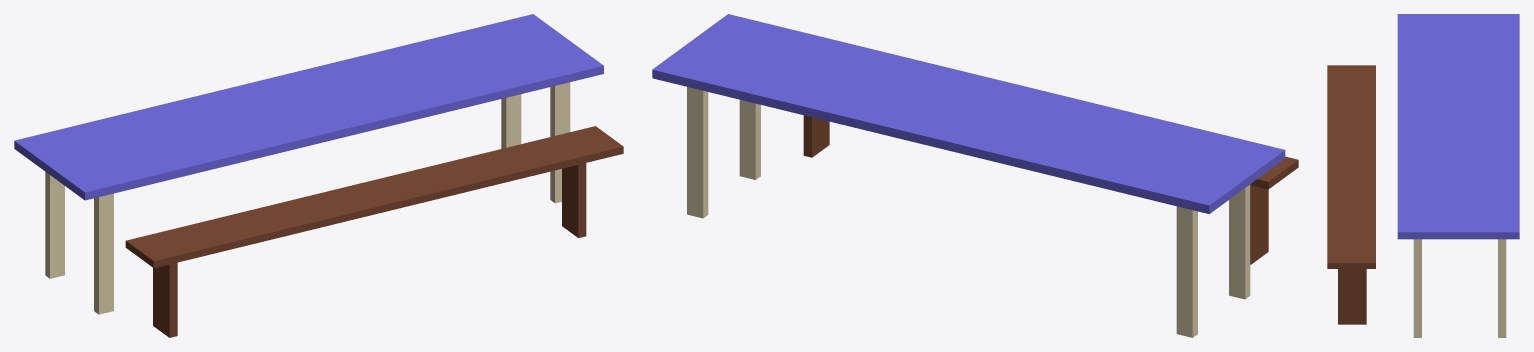
File: tablecaf.fbx
3 views of the same model, side by side, from view 1: azimuth 30°, elevation 25°; view 2: azimuth 150°, elevation 25°; view 3: azimuth 270°, elevation 25° (orthographic). The views are drawn at different scales.
Visible parts, largest first — view 1: Cube.003, Cube; view 2: Cube.003, Cube; view 3: Cube.003, Cube.
Part boxes in pixels (x1,y1,x2,y2): Cube.003: [14, 14, 603, 314]; Cube: [125, 126, 623, 337]; Cube.003: [652, 14, 1285, 337]; Cube: [803, 115, 1298, 264]; Cube.003: [1397, 14, 1519, 337]; Cube: [1327, 65, 1375, 324].
Bounding box in the file's own units: 971 × 241 × 361.
